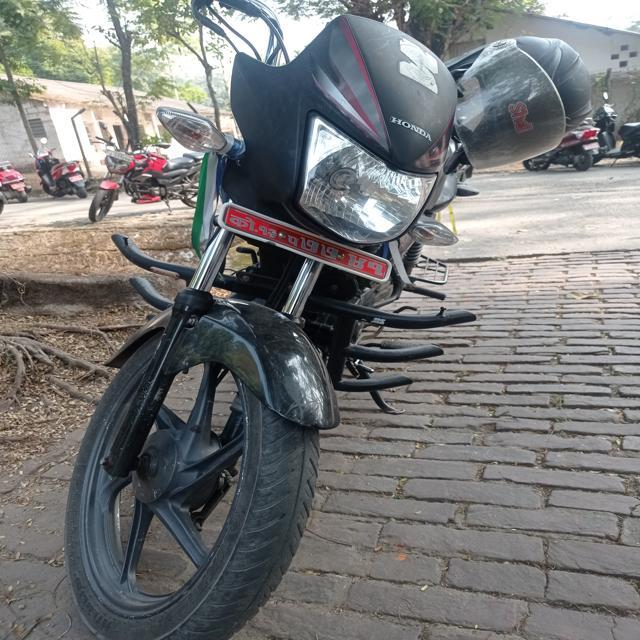license_plate: (202, 139, 403, 305)
